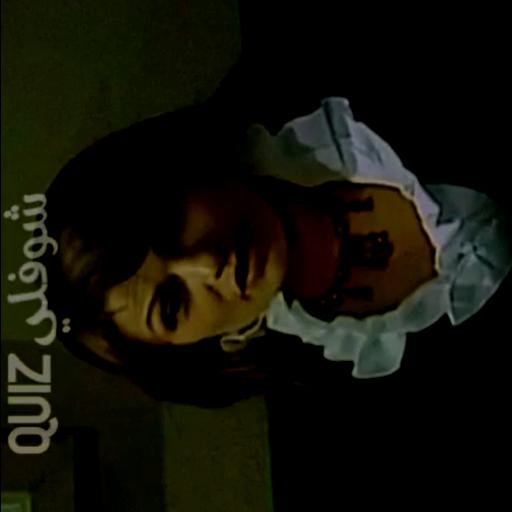zeineb: (105, 158, 287, 352)
